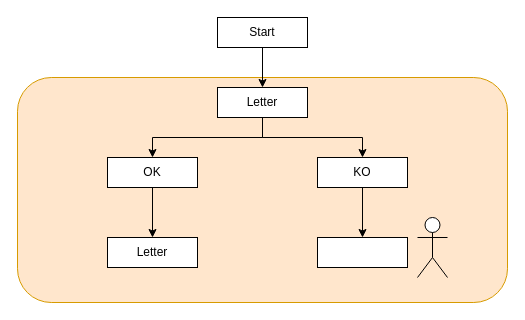
Some shapes in this 525 by 320 pixel diagram are drawn without their labels. The centre of each missing label's shape, as x and y in pixels:
"Actor" goes at point (432, 247).
"Hangman" goes at point (362, 252).
